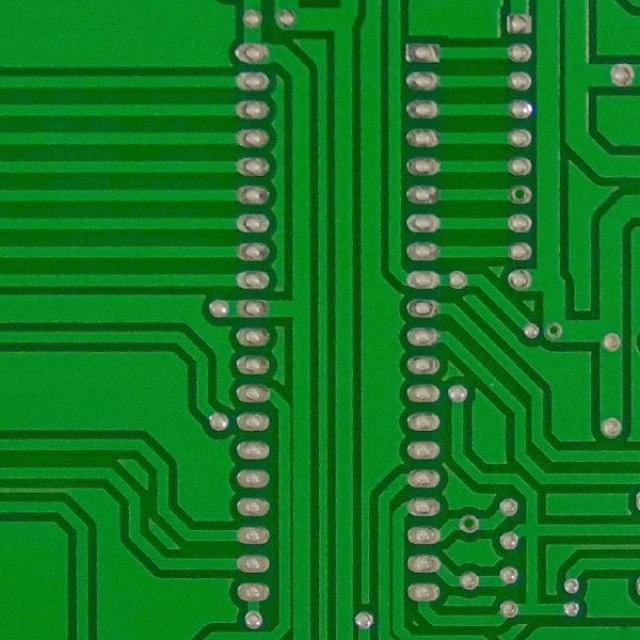missing_hole: (454, 513, 484, 537), (510, 183, 536, 207), (545, 320, 570, 342)
